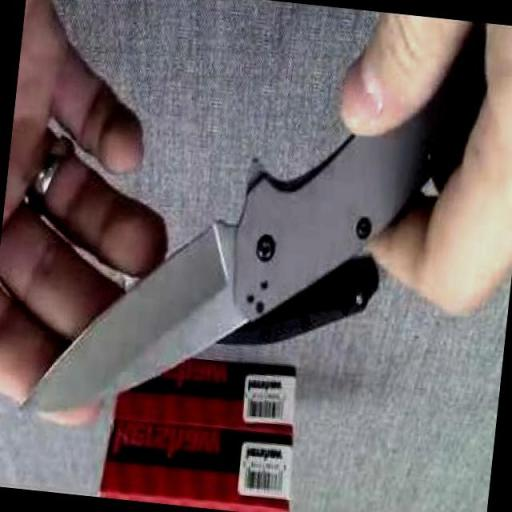knife: (1, 0, 502, 489)
